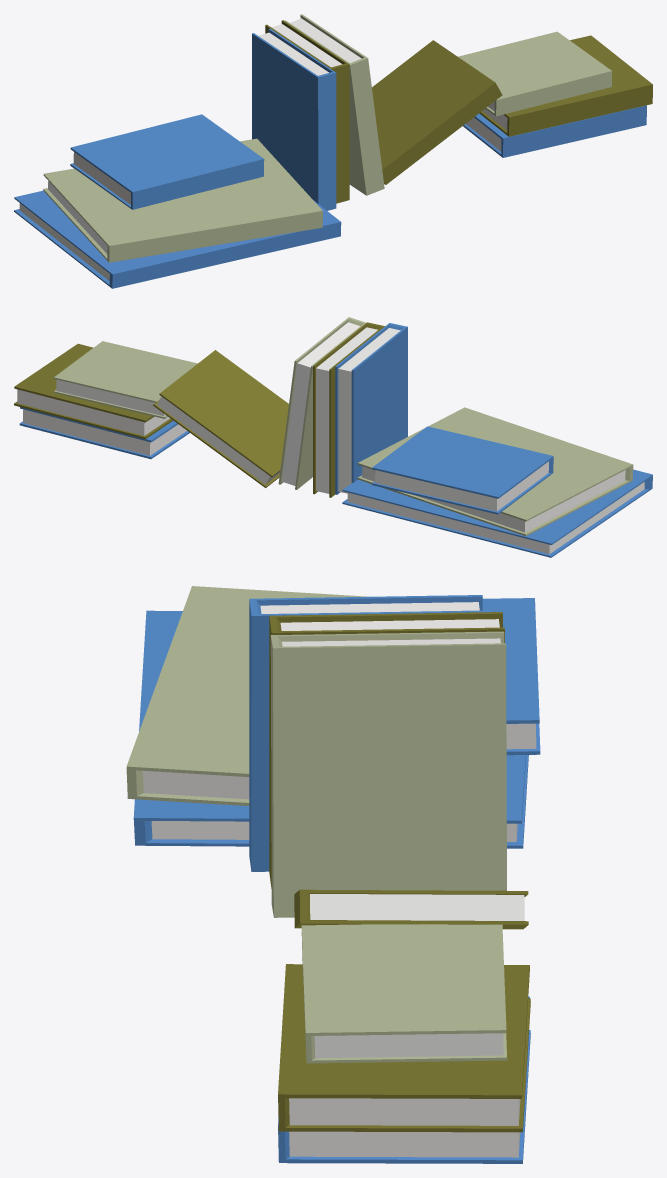
File: Books_12.fbx
The picture shows the model from 3 angles, top to bottom: view 1: azimuth 30°, elevation 25°; view 2: azimuth 150°, elevation 25°; view 3: azimuth 270°, elevation 25°; orthographic projection. The views are drawn at different scales.
Parts seen in each view (by area): view 1: Books_12; view 2: Books_12; view 3: Books_12.
Part boxes in pixels (<box>): Books_12: <box>14,14,652,288</box>; Books_12: <box>14,317,652,557</box>; Books_12: <box>126,586,540,1163</box>.
Bounding box in the file's own units: 164 × 54.08 × 37.62.
